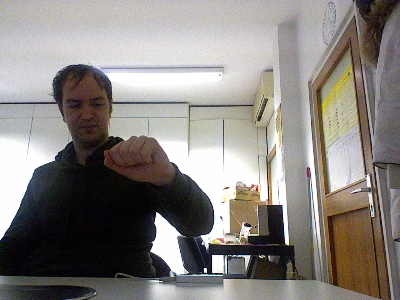石头: (102, 135, 173, 183)
